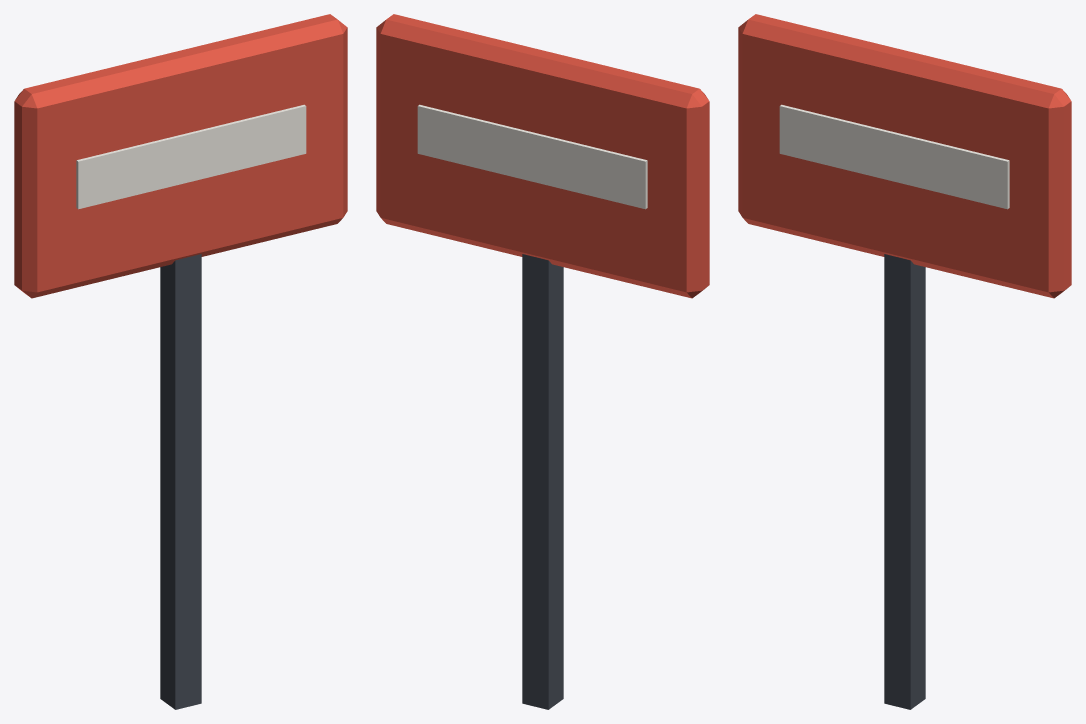
The model's file is depot_sign.glb.
3 renders of one model, left to right at view 1: azimuth 30°, elevation 25°; view 2: azimuth 150°, elevation 25°; view 3: azimuth 330°, elevation 25°, orthographic.
Visible parts, largest first — view 1: depot_sign; view 2: depot_sign; view 3: depot_sign.
Part boxes in pixels (x1=…): depot_sign: x1=14, y1=14, x2=347, y2=709; depot_sign: x1=376, y1=14, x2=709, y2=709; depot_sign: x1=738, y1=14, x2=1071, y2=709.
Bounding box in the file's own units: 1 × 1.9 × 0.12.
1 material, 1 textured.
